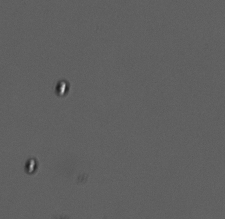Living Cell: (54, 79, 70, 96), (23, 157, 39, 173)
